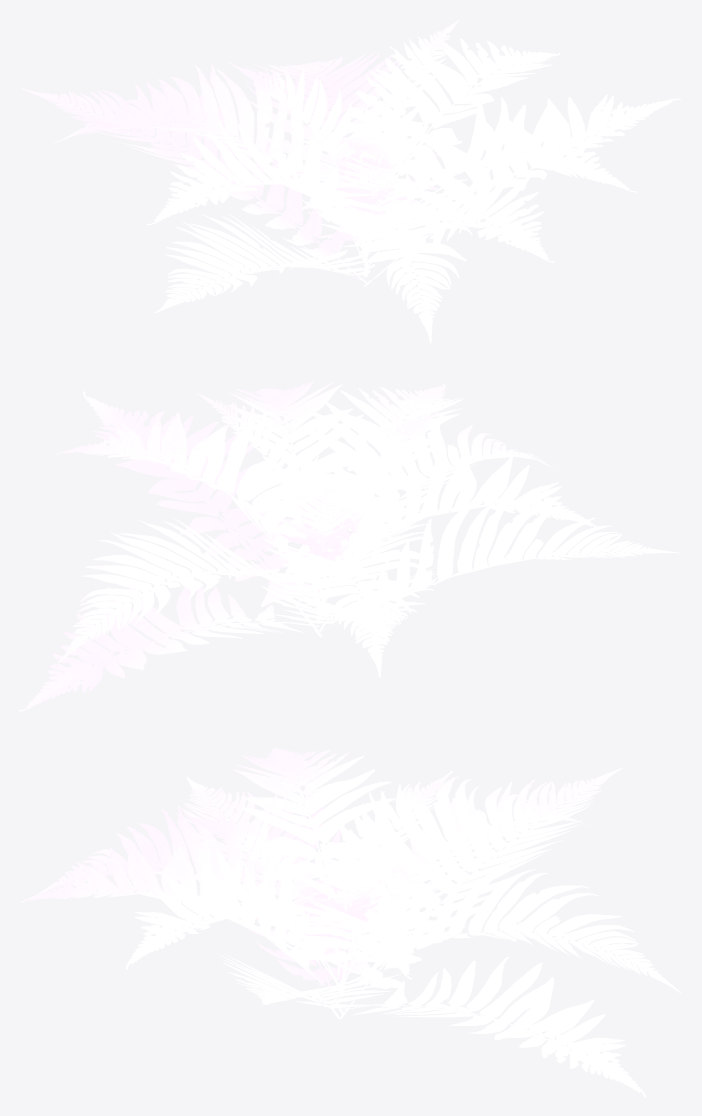
3 views of the same model, one above another, from view 1: azimuth 30°, elevation 25°; view 2: azimuth 150°, elevation 25°; view 3: azimuth 270°, elevation 25° (orthographic). The views are drawn at different scales.
Parts seen in each view (by area): view 1: SM_GF_Fern_01_LOD0; view 2: SM_GF_Fern_01_LOD0; view 3: SM_GF_Fern_01_LOD0.
Part boxes in pixels (x1,y1,x2,y2): SM_GF_Fern_01_LOD0: (21, 20, 681, 343); SM_GF_Fern_01_LOD0: (19, 380, 680, 711); SM_GF_Fern_01_LOD0: (21, 747, 681, 1097).
Size of the model in its own units: 0.73 by 0.2883 by 0.7266.
Materials: 1 (1 with a texture image).
